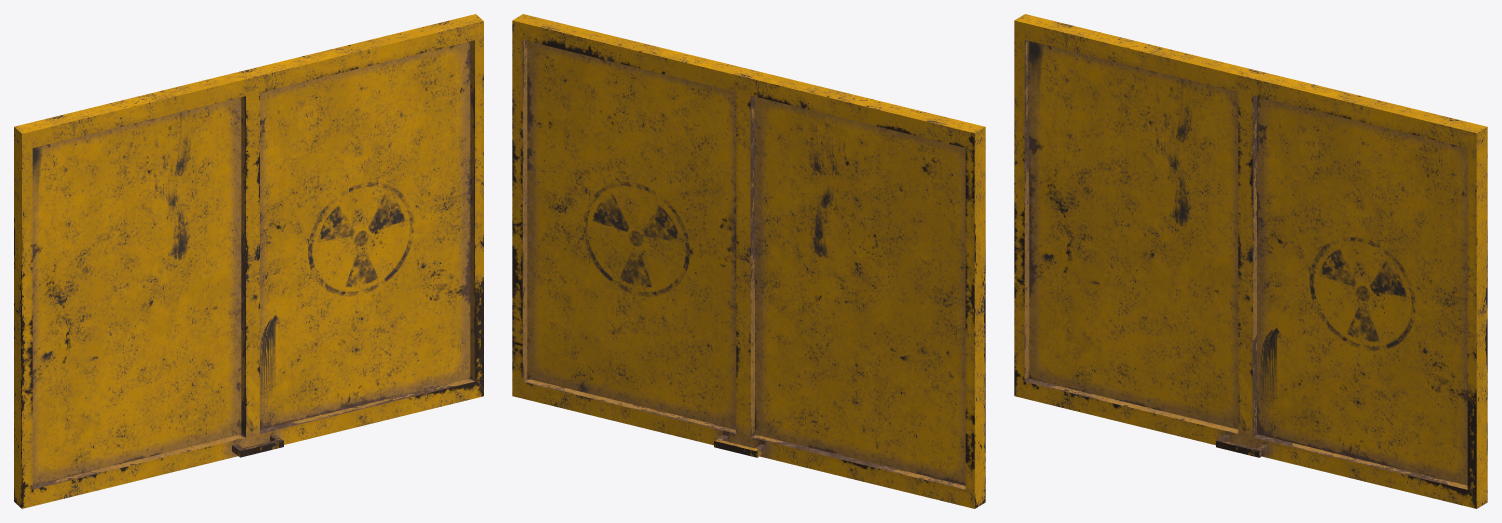
The picture shows the model from 3 angles, left to right: view 1: azimuth 30°, elevation 25°; view 2: azimuth 150°, elevation 25°; view 3: azimuth 330°, elevation 25°; orthographic projection.
Parts seen in each view (by area): view 1: objdoorup; view 2: objdoorup; view 3: objdoorup.
Boxes of the visible parts, left/top/right/bottom form: objdoorup: left=14, top=14, right=483, bottom=508; objdoorup: left=512, top=14, right=985, bottom=508; objdoorup: left=1014, top=14, right=1487, bottom=508.
Bounding box in the file's own units: 63.8 × 49.36 × 6.28.
Materials: 1 (1 with a texture image).
